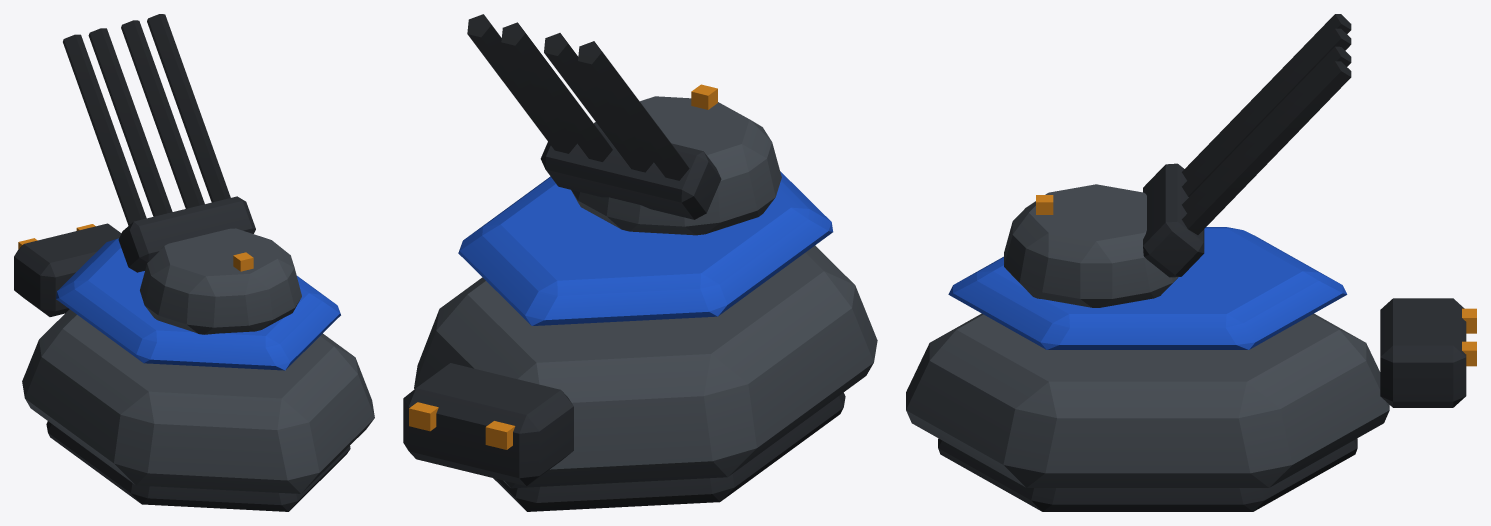
File: flak-crawler.glb
3 renders of one model, left to right at view 1: azimuth 30°, elevation 25°; view 2: azimuth 150°, elevation 25°; view 3: azimuth 270°, elevation 25°, orthographic. The views are drawn at different scales.
Parts seen in each view (by area): view 1: hull, turret; view 2: hull, turret; view 3: hull, turret.
Part boxes in pixels (<box>): hull: <box>14,223,374,511</box>; turret: <box>63,14,301,334</box>; hull: <box>403,171,877,511</box>; turret: <box>467,14,781,235</box>; hull: <box>906,227,1476,511</box>; turret: <box>1004,14,1351,307</box>.
Size of the model in its own units: 0.3991 by 0.5346 by 0.6637.
